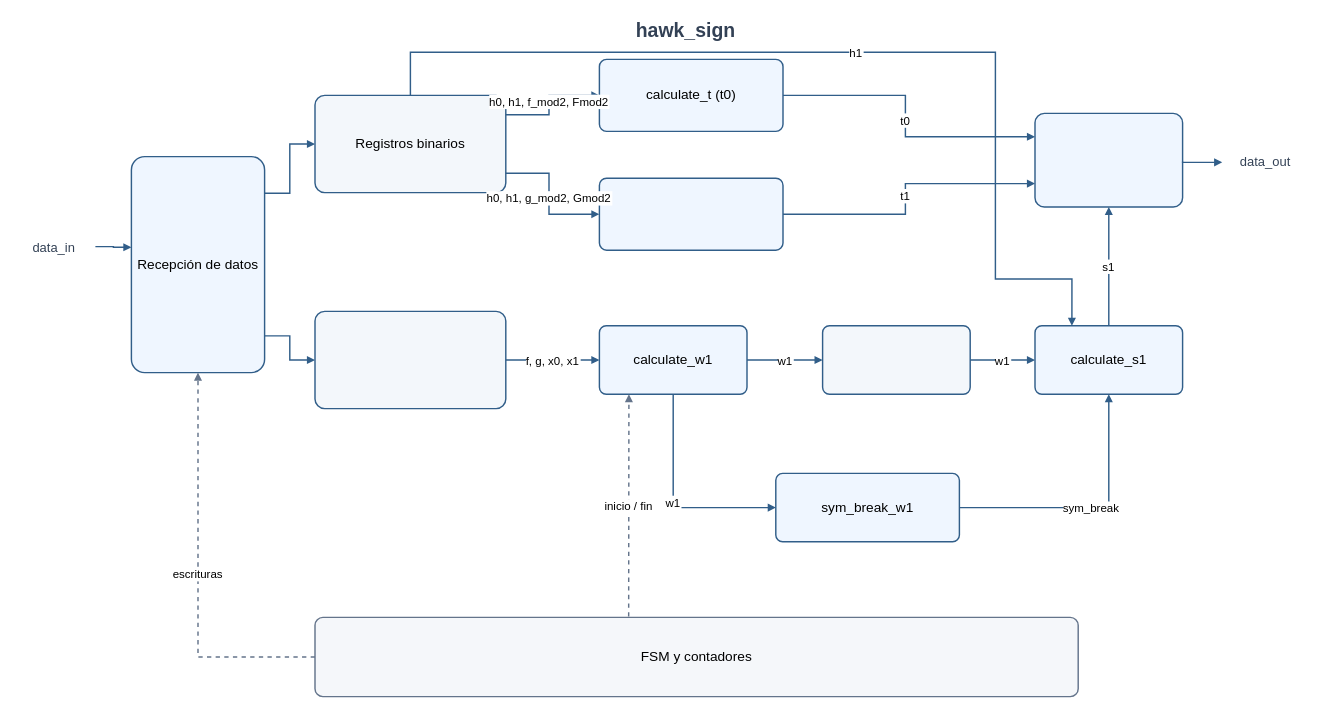
Image size: 1320x709. Some labels were removed from this diagram. The centre of each missing label's shape, as x and y in pixels:
"calculate_t (t1)" belongs at pixel 690 214.
"Memoria w1" belongs at pixel 896 360.
"Memorias f, g, x0, x1" belongs at pixel 410 359.
"Selector de salida" belongs at pixel 1108 159.
